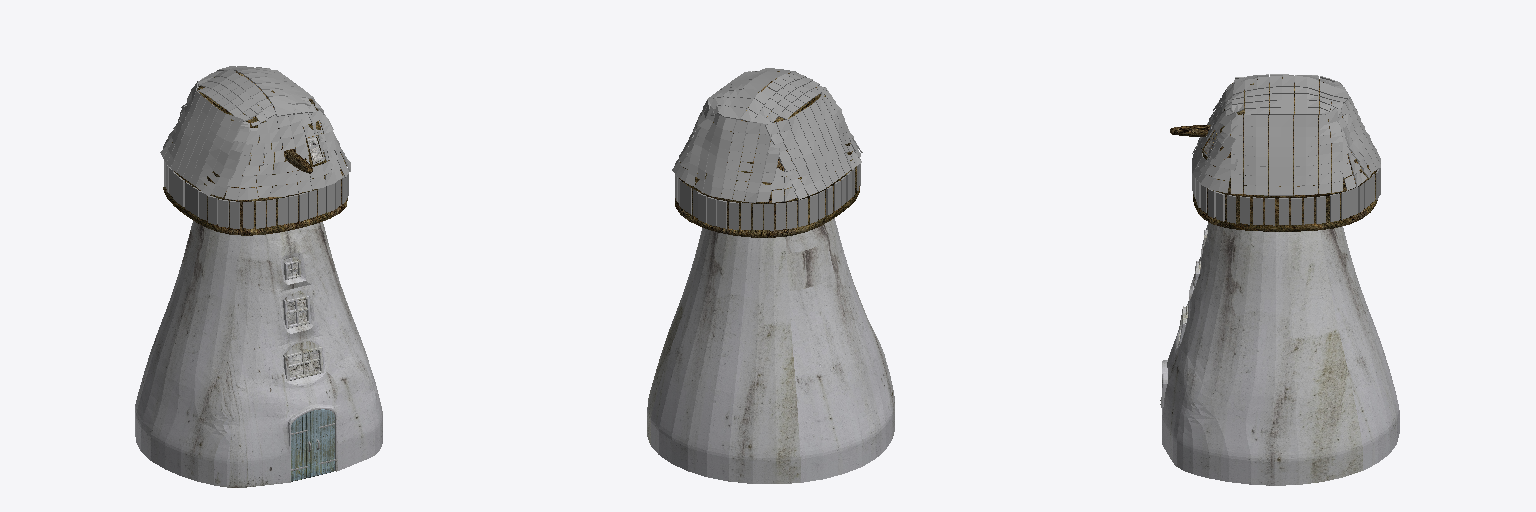
The picture shows the model from 3 angles: view 1: azimuth 30°, elevation 25°; view 2: azimuth 150°, elevation 25°; view 3: azimuth 270°, elevation 25°; orthographic projection.
Visible parts, largest first — view 1: Circle_Circle.002, Cube.002, Circle.011, Circle.002_Circle.002, Circle.003_Circle.002, Circle.001_Circle.002; view 2: Circle_Circle.002, Cube.002, Circle.011, Circle.002_Circle.002; view 3: Circle_Circle.002, Cube.002, Circle.011, Circle.002_Circle.002.
Part boxes in pixels (x1,y1,x2,y2): Circle_Circle.002: (135, 221, 382, 487); Cube.002: (160, 66, 350, 200); Circle.011: (164, 161, 348, 228); Circle.002_Circle.002: (163, 71, 347, 235); Circle.003_Circle.002: (291, 409, 335, 481); Circle.001_Circle.002: (283, 257, 323, 380); Circle_Circle.002: (647, 218, 894, 483); Cube.002: (672, 68, 862, 202); Circle.011: (675, 159, 860, 230); Circle.002_Circle.002: (675, 71, 859, 237); Circle_Circle.002: (1162, 222, 1399, 485); Cube.002: (1192, 74, 1380, 195); Circle.011: (1192, 165, 1380, 225); Circle.002_Circle.002: (1170, 77, 1377, 231).
Size of the model in its own units: 4.66 by 7.45 by 4.53.
Materials: 8 (4 with a texture image).